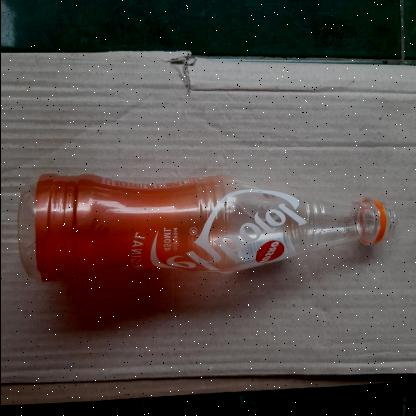Plastic Bottle: (0, 132, 386, 326)
